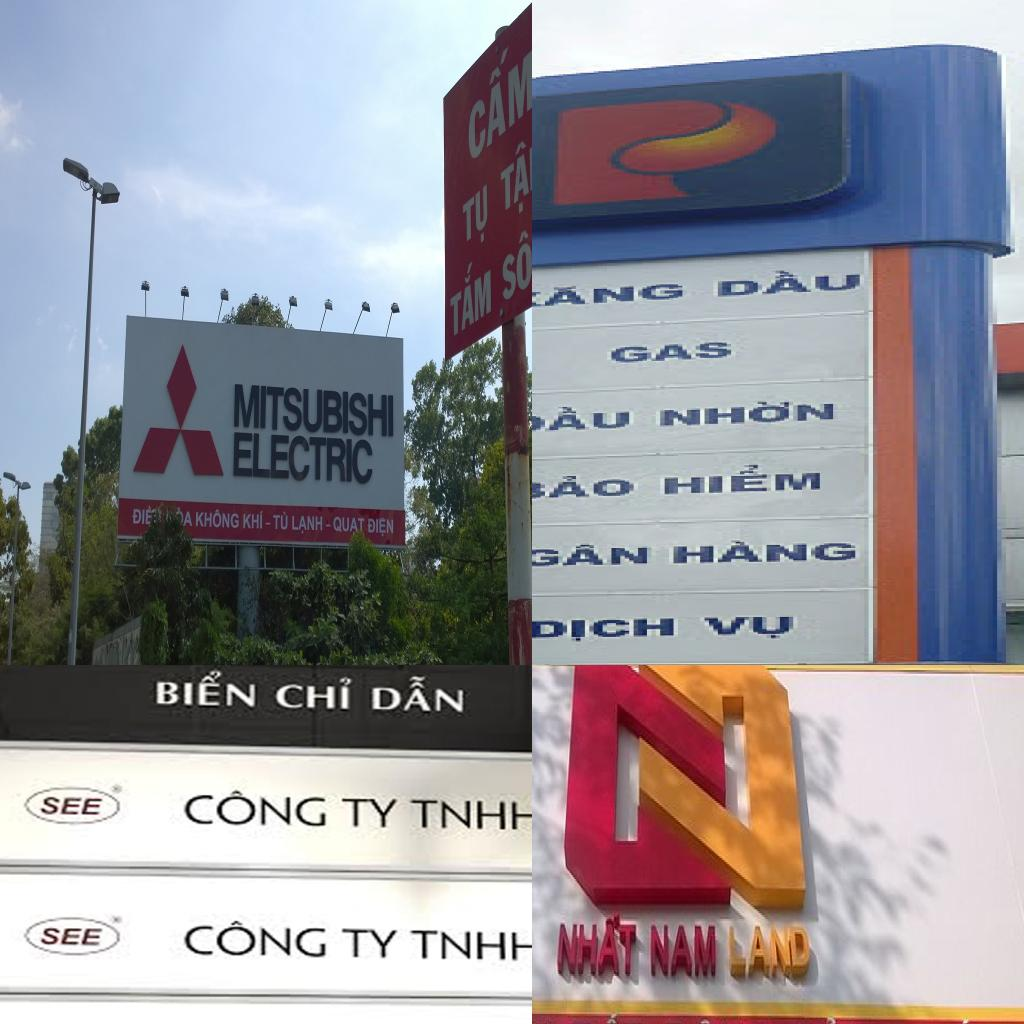text: (612, 689, 751, 852), (467, 16, 532, 167), (232, 381, 395, 440), (232, 430, 374, 486), (176, 784, 329, 830), (181, 918, 329, 964), (660, 460, 829, 498), (556, 907, 638, 978), (660, 398, 842, 428), (669, 538, 860, 566), (714, 266, 868, 300), (152, 669, 261, 717), (532, 280, 691, 312), (367, 674, 469, 722), (407, 925, 532, 964), (729, 924, 816, 978), (404, 797, 532, 831), (449, 246, 493, 341), (532, 617, 682, 644), (650, 922, 718, 980), (498, 118, 532, 228), (272, 674, 358, 717), (532, 402, 638, 435), (532, 541, 655, 569), (607, 341, 736, 366), (532, 474, 638, 503), (34, 792, 114, 825), (337, 795, 401, 832), (335, 926, 403, 960), (462, 180, 490, 255), (34, 922, 110, 949), (570, 1010, 645, 1024), (195, 507, 239, 530), (291, 513, 324, 536), (366, 515, 394, 539), (333, 516, 365, 536), (242, 509, 264, 532), (132, 504, 154, 526), (272, 510, 289, 533), (182, 510, 194, 528)
